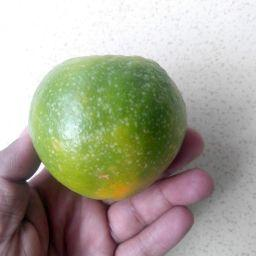Unripe: (29, 55, 189, 196)
